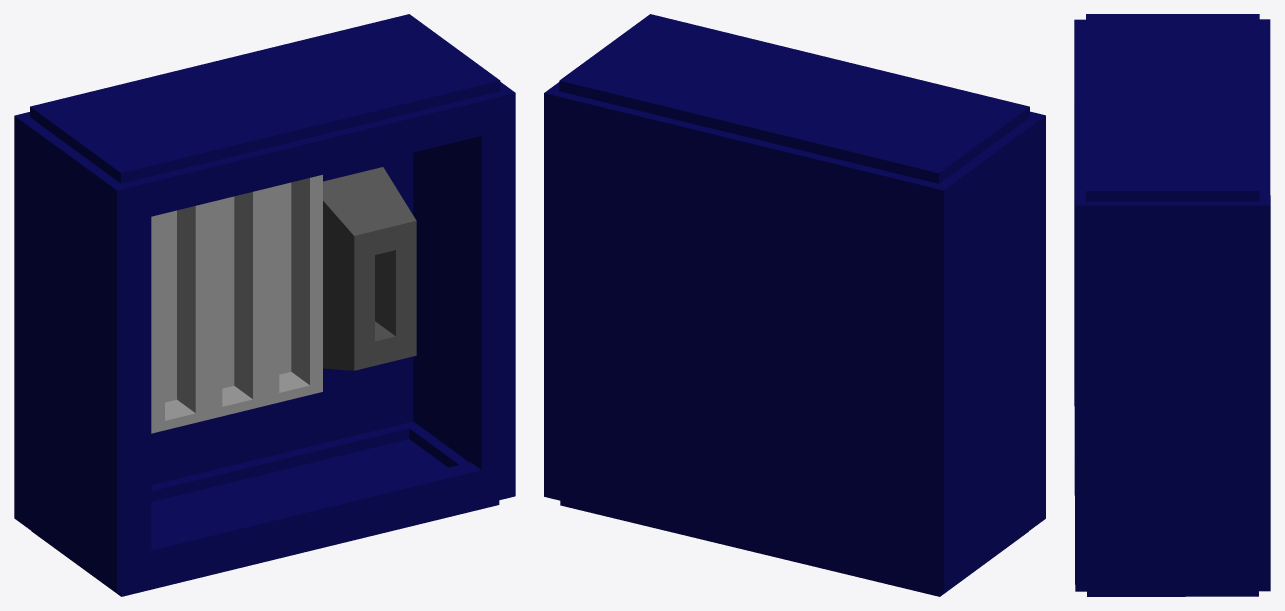
Rendered from Fuse Box 1.fbx.
3 views of the same model, side by side, from view 1: azimuth 30°, elevation 25°; view 2: azimuth 150°, elevation 25°; view 3: azimuth 270°, elevation 25° (orthographic). The views are drawn at different scales.
Parts seen in each view (by area): view 1: pPlane11; view 2: pPlane11; view 3: pPlane11.
Boxes of the visible parts, bbox=[...] form: pPlane11: bbox=[14, 14, 515, 596]; pPlane11: bbox=[544, 14, 1045, 596]; pPlane11: bbox=[1074, 14, 1270, 596].
Bounding box in the file's own units: 8.5 × 8.63 × 3.78.
